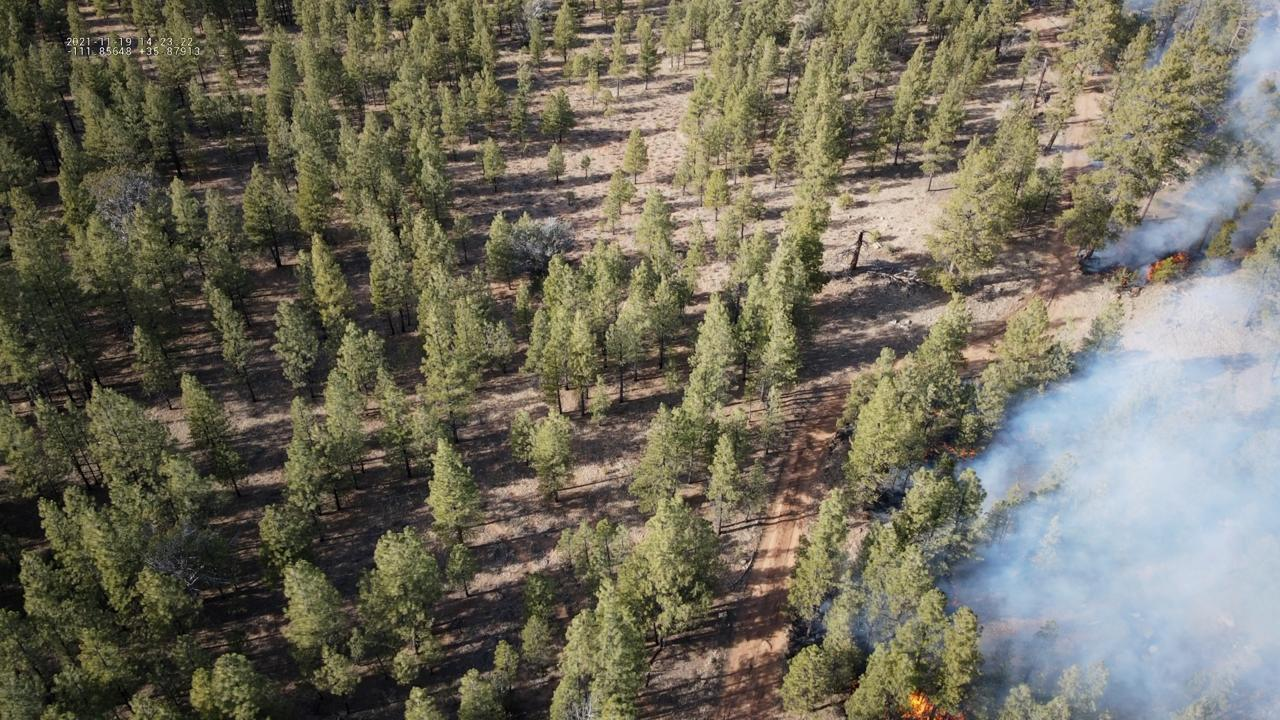fire: (897, 690, 965, 720), (943, 442, 977, 458), (1145, 258, 1162, 280), (1172, 251, 1190, 265)
smoke: (806, 0, 1280, 720)
